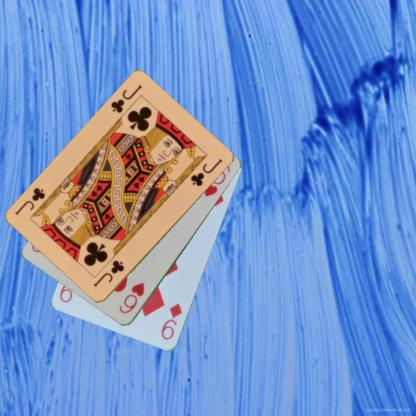6h: (116, 280, 146, 316)
9d: (158, 300, 184, 342)
Jc: (108, 82, 144, 115), (91, 258, 126, 290)
